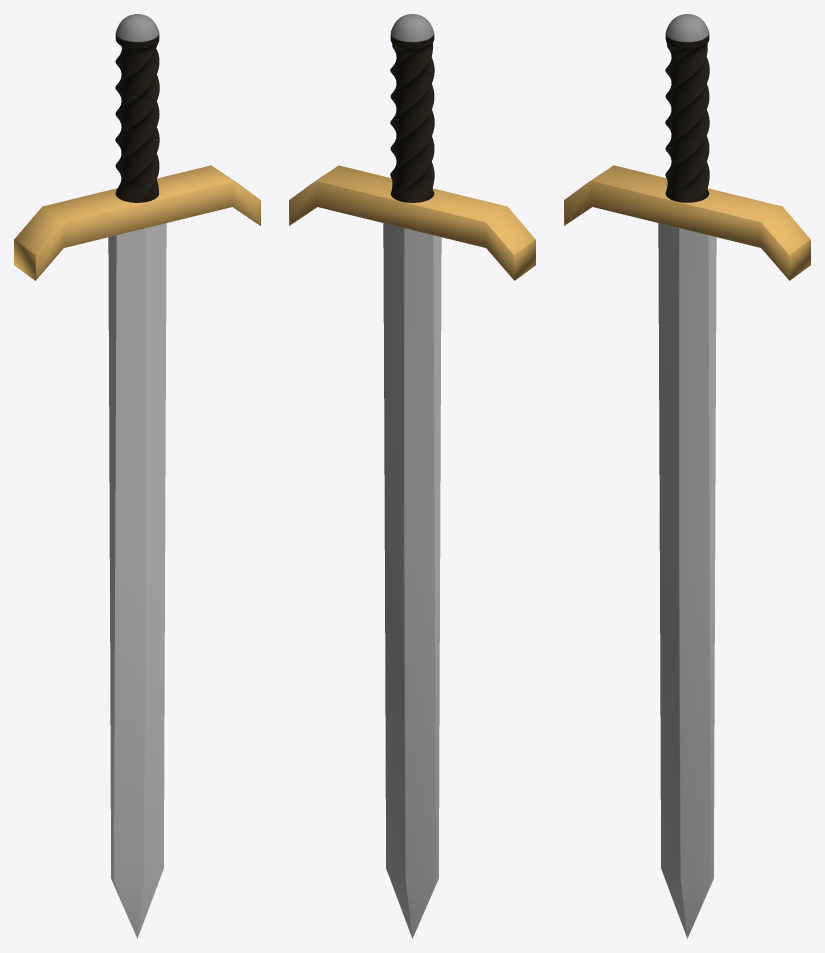
Rendered from Sword.fbx.
The picture shows the model from 3 angles, left to right: view 1: azimuth 30°, elevation 25°; view 2: azimuth 150°, elevation 25°; view 3: azimuth 330°, elevation 25°; orthographic projection.
Parts seen in each view (by area): view 1: Cube, Cube.001, Cube.002, Cube.003; view 2: Cube, Cube.001, Cube.002, Cube.003; view 3: Cube, Cube.001, Cube.002, Cube.003.
Boxes of the visible parts, bbox=[...] form: Cube: bbox=[108, 223, 166, 938]; Cube.001: bbox=[14, 165, 260, 280]; Cube.002: bbox=[115, 33, 159, 202]; Cube.003: bbox=[116, 14, 159, 42]; Cube: bbox=[383, 223, 441, 938]; Cube.001: bbox=[289, 165, 535, 280]; Cube.002: bbox=[390, 33, 434, 202]; Cube.003: bbox=[390, 14, 433, 42]; Cube: bbox=[658, 223, 716, 938]; Cube.001: bbox=[564, 165, 810, 280]; Cube.002: bbox=[665, 33, 709, 202]; Cube.003: bbox=[666, 14, 709, 42].
Size of the model in its own units: 72.21 by 282 by 12.44.
